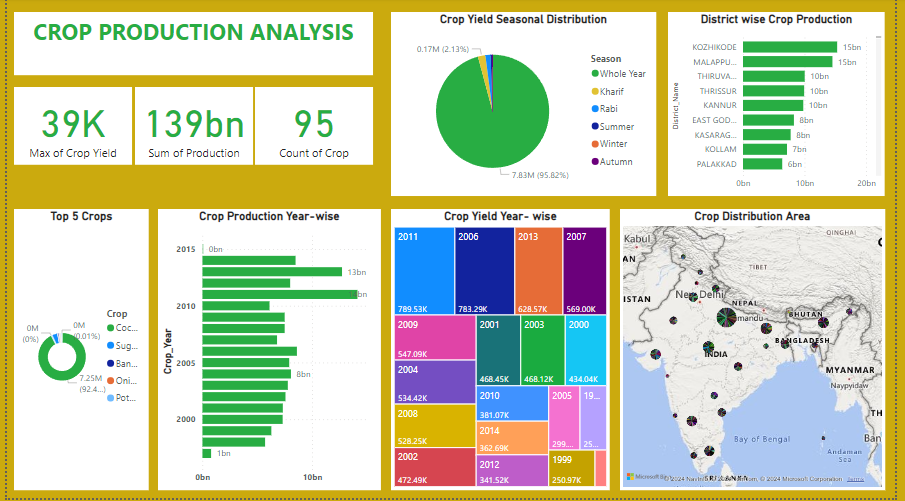

This screenshot's page, from the dashboard's own definition file:
{"tool":"powerbi","page":{"name":"Page 1","canvas":[1280,720],"ordinal":0},"visuals":[{"type":"barChart","title":"Crop Production Year-wise","fields":{"Y":["Sum(Crop Production data.Production)"],"Category":["Crop Production data.Crop_Year"]},"box":[217.4,303.8,321.1,404.6],"z":0},{"type":"treemap","title":"Crop Yield Year- wise","fields":{"Group":["Crop Production data.Crop_Year"],"Values":["Sum(Crop Production data.Crop Yield)"]},"box":[553,303.8,315.4,404.6],"z":1000},{"type":"pieChart","title":"Crop Yield Seasonal Distribution","fields":{"Category":["Crop Production data.Season"],"Y":["Sum(Crop Production data.Crop Yield)"]},"box":[553,20.2,381.6,265],"z":2000},{"type":"donutChart","title":"Top 5 Crops","fields":{"Category":["Crop Production data.Crop"],"Y":["Sum(Crop Production data.Crop Yield)"],"Series":["Crop Production data.Season"]},"box":[10.1,303.8,194.4,404.6],"z":3000},{"type":"map","title":"Crop Distribution Area","fields":{"Category":["Crop Production data.State_Name"],"Size":["Sum(Crop Production data.Crop Yield)"],"Series":["Crop Production data.Crop Yield"]},"box":[882.7,303.8,381.6,404.6],"z":4000},{"type":"barChart","title":"District wise Crop Production","fields":{"Category":["Crop Production data.District_Name"],"Y":["Sum(Crop Production data.Production)"]},"box":[951.8,20.2,312.5,265],"z":5000},{"type":"textbox","box":[10.1,20.2,517,90.7],"z":6000},{"type":"card","fields":{"Values":["Max(Crop Production data.Crop Yield)"]},"box":[10.1,128.2,169.9,112.3],"z":7000},{"type":"card","fields":{"Values":["Sum(Crop Production data.Production)"]},"box":[184.3,128.2,169.9,112.3],"z":8000},{"type":"card","fields":{"Values":["Count(Crop Production data.Crop)"]},"box":[357.1,128.2,169.9,112.3],"z":9000}]}

Visuals, with their boxes in screenshot pixels (x1, y1, x2, y2), scaled from the page's 1280x720 canvas onto the 905x501 screenshot:
"Crop Production Year-wise" barChart: region(154, 211, 381, 493)
"Crop Yield Year- wise" treemap: region(391, 211, 614, 493)
"Crop Yield Seasonal Distribution" pieChart: region(391, 14, 661, 198)
"Top 5 Crops" donutChart: region(7, 211, 145, 493)
"Crop Distribution Area" map: region(624, 211, 894, 493)
"District wise Crop Production" barChart: region(673, 14, 894, 198)
textbox: region(7, 14, 373, 77)
card - Max(Crop Production data.Crop Yield): region(7, 89, 127, 167)
card - Sum(Crop Production data.Production): region(130, 89, 250, 167)
card - Count(Crop Production data.Crop): region(252, 89, 373, 167)
